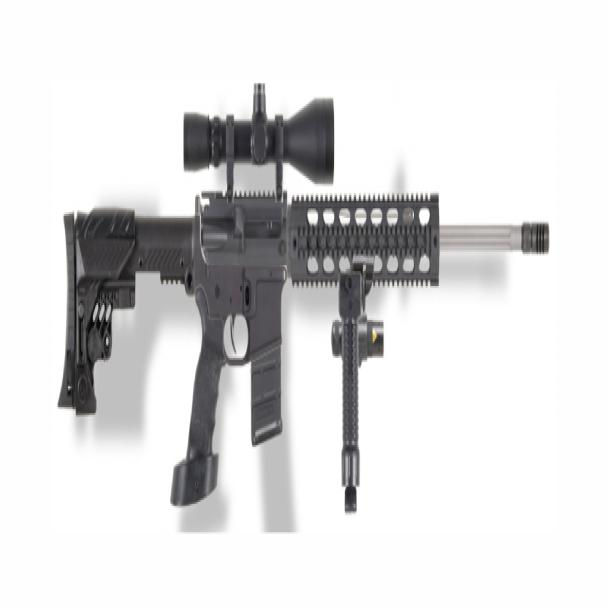Gun: (51, 72, 554, 494)
